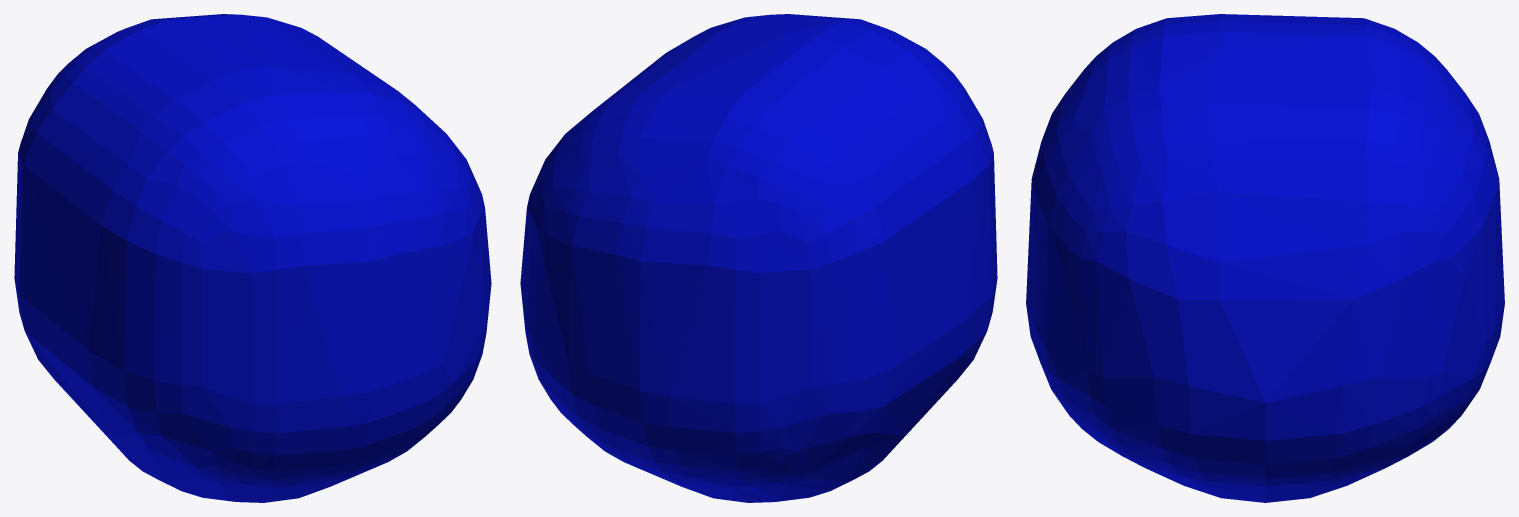
Rendered from COL_hollie_real_025_collision.dae.
The picture shows the model from 3 angles, left to right: view 1: azimuth 30°, elevation 25°; view 2: azimuth 150°, elevation 25°; view 3: azimuth 270°, elevation 25°; orthographic projection.
Parts seen in each view (by area): view 1: COL_hollie_real_025_collision; view 2: COL_hollie_real_025_collision; view 3: COL_hollie_real_025_collision.
Part boxes in pixels (bbox=[...]): COL_hollie_real_025_collision: bbox=[14, 14, 491, 502]; COL_hollie_real_025_collision: bbox=[520, 14, 997, 502]; COL_hollie_real_025_collision: bbox=[1026, 14, 1504, 502].
Bounding box in the file's own units: 0.0595 × 0.063 × 0.0625.
